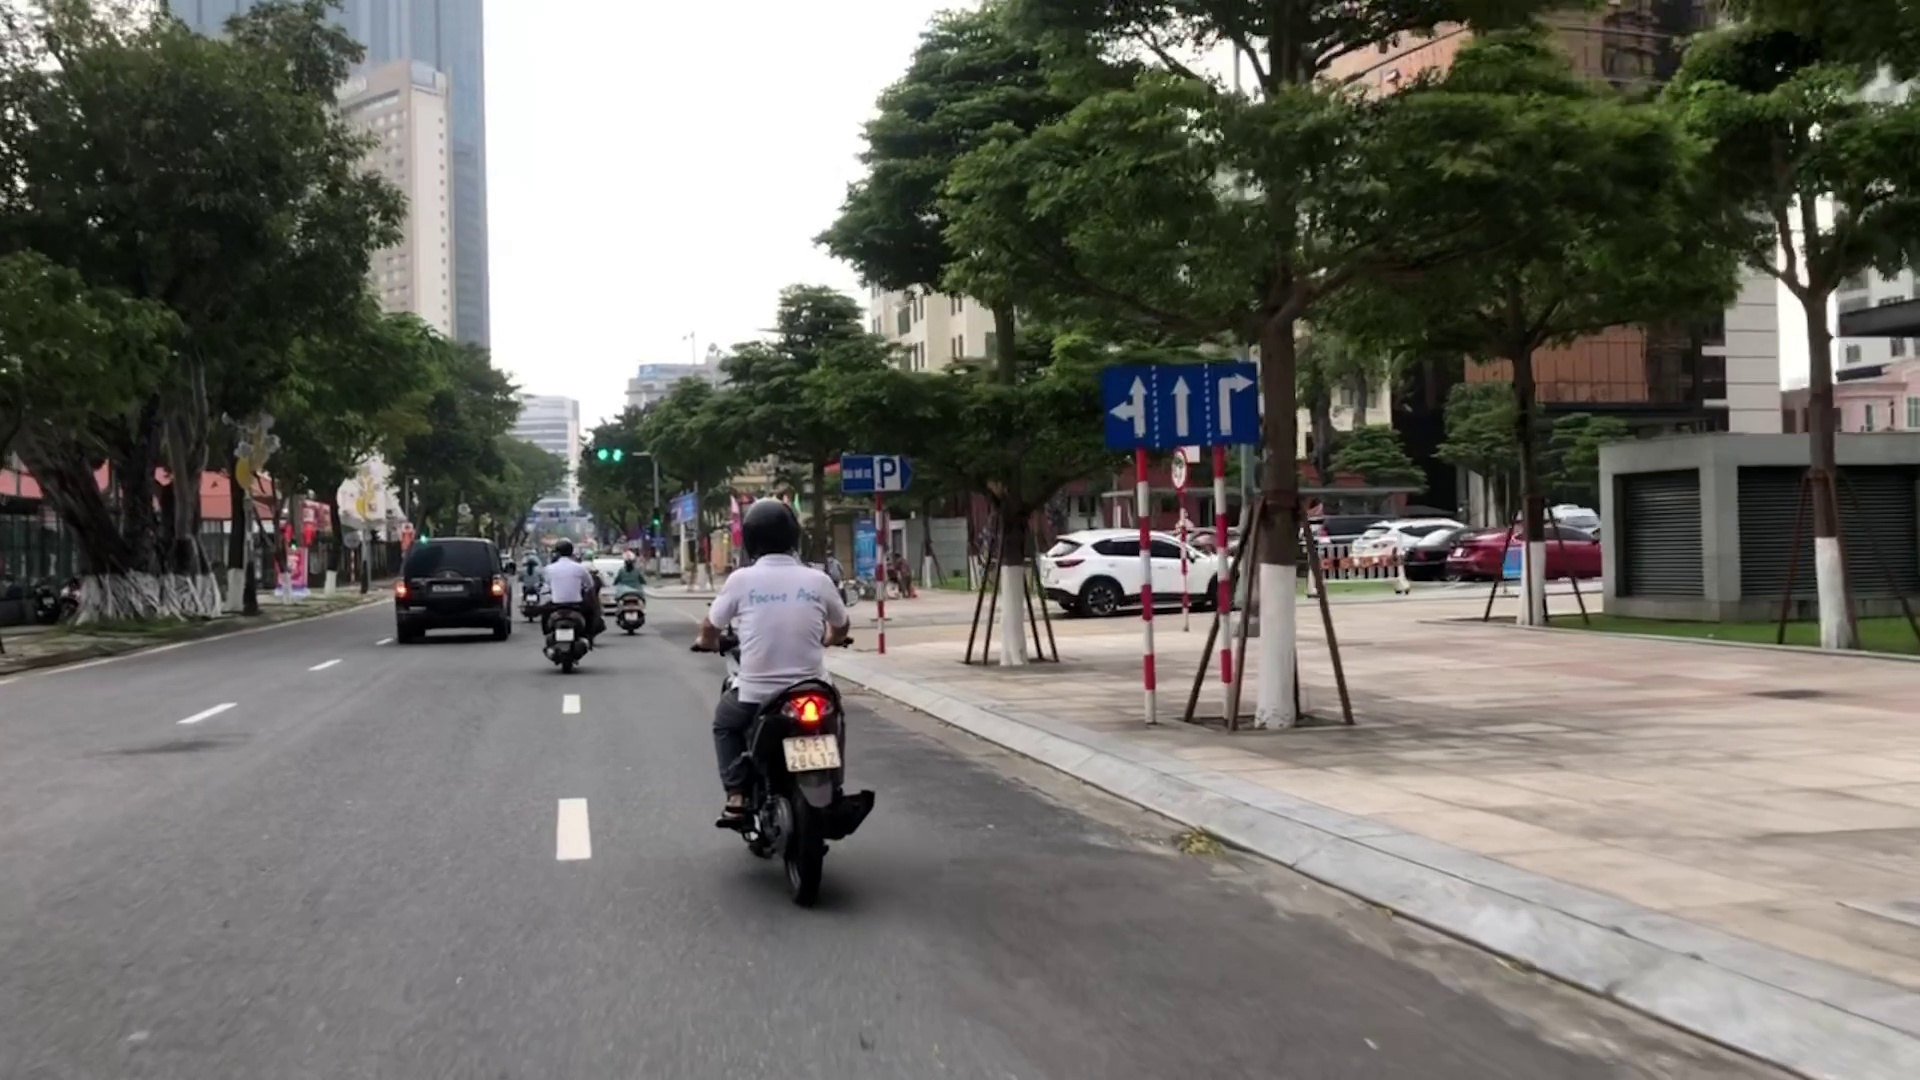Bien khac: (1098, 363, 1261, 440), (836, 455, 910, 491)
